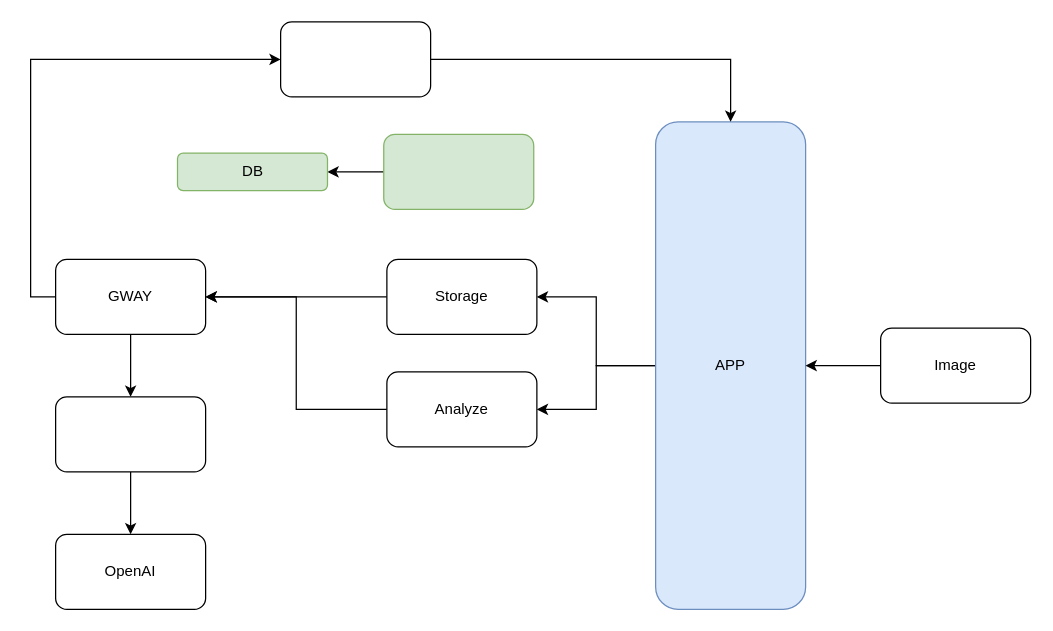
The diagram is 1053 pixels wide and 631 high, and some of its shapes have lost their labels. The centre of each missing label's shape, as x and y in pixels:
Azure: (x=130, y=434)
Message: (x=355, y=59)
QUEUE: (x=458, y=171)
